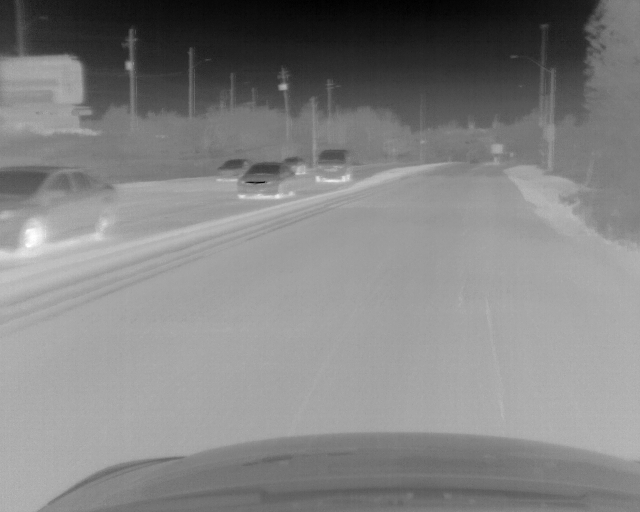car: (1, 165, 123, 255), (236, 163, 296, 200), (314, 150, 350, 183), (215, 157, 250, 178), (283, 156, 309, 176)
